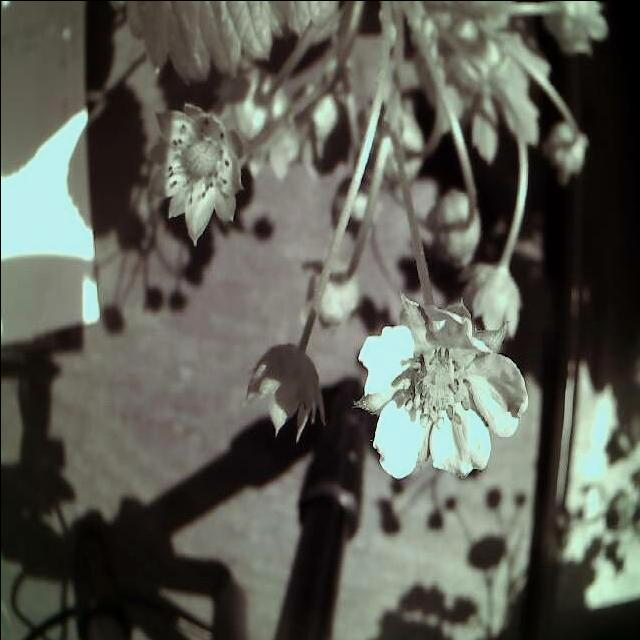flower: (353, 296, 536, 492)
